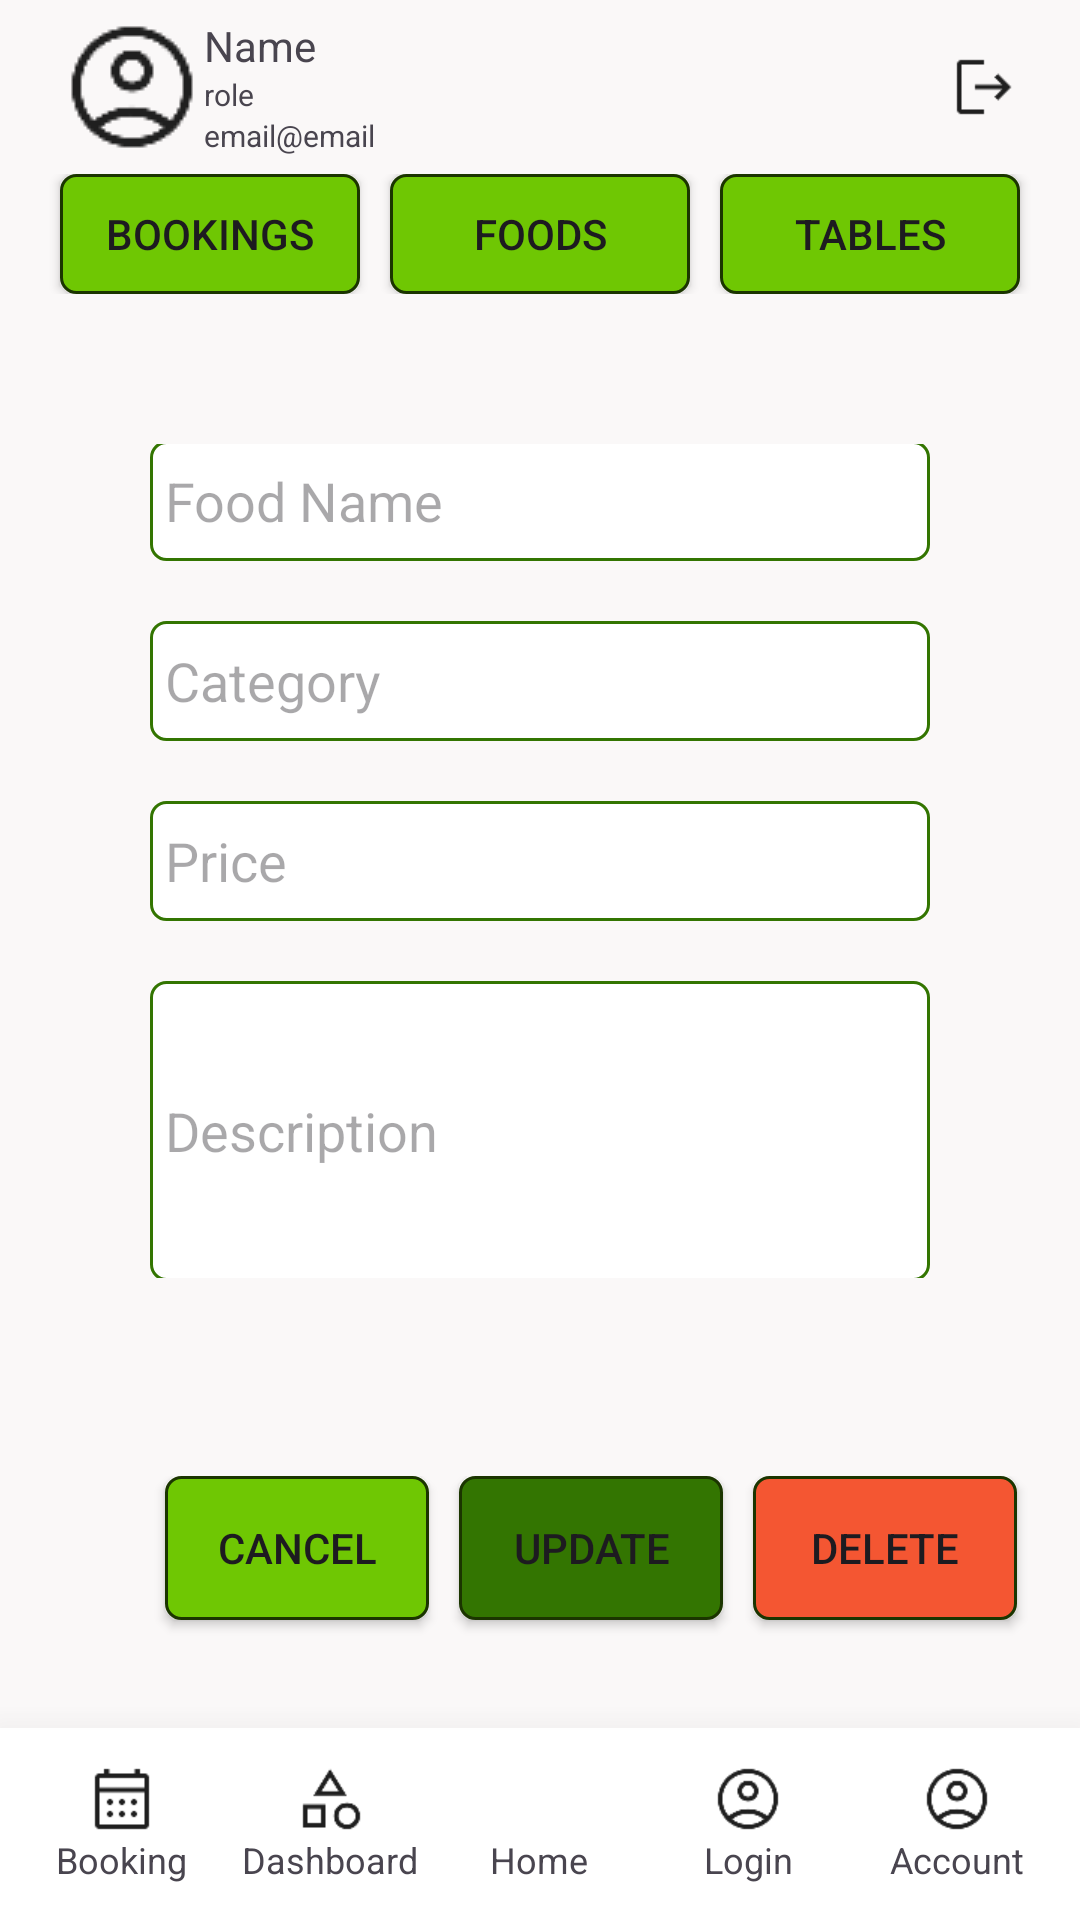

Where to tap for icons on this 1080px x 1920px app screen, as (x,y):
calendar: (122,1799)
category: (331,1799)
